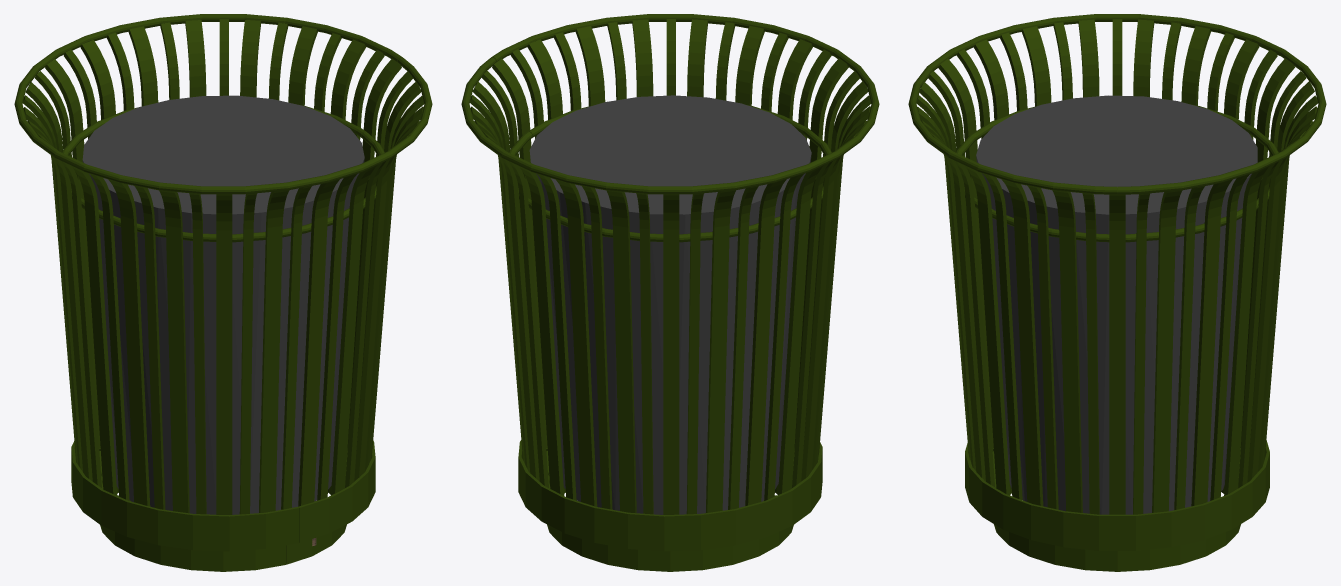
3 views of the same model, side by side, from view 1: azimuth 30°, elevation 25°; view 2: azimuth 150°, elevation 25°; view 3: azimuth 270°, elevation 25° (orthographic).
Visible parts, largest first — view 1: mesh9.002_mesh9-geometry, mesh6.002_mesh6-geometry, mesh14.002_mesh14-geometry, mesh3.037_mesh3-geometry, mesh3.033_mesh3-geometry, mesh3.038_mesh3-geometry, mesh3.036_mesh3-geometry, mesh3.034_mesh3-geometry, mesh3.035_mesh3-geometry, mesh3.028_mesh3-geometry, mesh5.002_mesh5-geometry, mesh1.030_mesh1-geometry (+33 smaller); view 2: mesh9.002_mesh9-geometry, mesh6.002_mesh6-geometry, mesh14.002_mesh14-geometry, mesh3.039_mesh3-geometry, mesh3.041_mesh3-geometry, mesh3.040_mesh3-geometry, mesh3.042_mesh3-geometry, mesh3.032_mesh3-geometry, mesh3.027_mesh3-geometry, mesh3.031_mesh3-geometry, mesh5.002_mesh5-geometry, mesh1.039_mesh1-geometry (+33 smaller); view 3: mesh9.002_mesh9-geometry, mesh6.002_mesh6-geometry, mesh14.002_mesh14-geometry, mesh3.025_mesh3-geometry, mesh3.022_mesh3-geometry, mesh3.026_mesh3-geometry, mesh3.029_mesh3-geometry, mesh3.024_mesh3-geometry, mesh3.023_mesh3-geometry, mesh3.030_mesh3-geometry, mesh5.002_mesh5-geometry, mesh1.023_mesh1-geometry (+33 smaller).
Boxes of the visible parts, x1,y1,x2,y2 form: mesh9.002_mesh9-geometry: [82, 95, 364, 514]; mesh6.002_mesh6-geometry: [71, 441, 375, 551]; mesh14.002_mesh14-geometry: [14, 14, 432, 194]; mesh3.037_mesh3-geometry: [159, 190, 189, 513]; mesh3.033_mesh3-geometry: [259, 190, 289, 512]; mesh3.038_mesh3-geometry: [216, 194, 232, 514]; mesh3.036_mesh3-geometry: [108, 179, 150, 506]; mesh3.034_mesh3-geometry: [298, 179, 339, 506]; mesh3.035_mesh3-geometry: [331, 165, 377, 495]; mesh3.028_mesh3-geometry: [71, 166, 117, 495]; mesh5.002_mesh5-geometry: [100, 474, 346, 571]; mesh1.030_mesh1-geometry: [134, 185, 165, 509]; mesh9.002_mesh9-geometry: [529, 95, 811, 514]; mesh6.002_mesh6-geometry: [518, 440, 822, 551]; mesh14.002_mesh14-geometry: [461, 14, 879, 194]; mesh3.039_mesh3-geometry: [607, 190, 636, 513]; mesh3.041_mesh3-geometry: [706, 190, 735, 512]; mesh3.040_mesh3-geometry: [663, 194, 679, 514]; mesh3.042_mesh3-geometry: [745, 179, 786, 505]; mesh3.032_mesh3-geometry: [556, 180, 597, 506]; mesh3.027_mesh3-geometry: [778, 165, 823, 494]; mesh3.031_mesh3-geometry: [519, 166, 564, 495]; mesh5.002_mesh5-geometry: [547, 474, 793, 571]; mesh1.039_mesh1-geometry: [728, 186, 758, 509]; mesh9.002_mesh9-geometry: [976, 95, 1257, 514]; mesh6.002_mesh6-geometry: [965, 440, 1269, 550]; mesh14.002_mesh14-geometry: [908, 14, 1326, 194]; mesh3.025_mesh3-geometry: [1052, 190, 1082, 512]; mesh3.022_mesh3-geometry: [1152, 190, 1182, 512]; mesh3.026_mesh3-geometry: [1109, 188, 1125, 514]; mesh3.029_mesh3-geometry: [1191, 179, 1232, 506]; mesh3.024_mesh3-geometry: [1001, 179, 1043, 506]; mesh3.023_mesh3-geometry: [964, 165, 1010, 495]; mesh3.030_mesh3-geometry: [1224, 166, 1269, 495]; mesh5.002_mesh5-geometry: [994, 485, 1240, 571]; mesh1.023_mesh1-geometry: [1027, 185, 1058, 509].
Bounding box in the file's own units: 0.5562 × 0.6161 × 0.5577.
